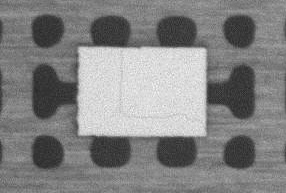DIE_CRACK: (118, 55, 194, 122)
